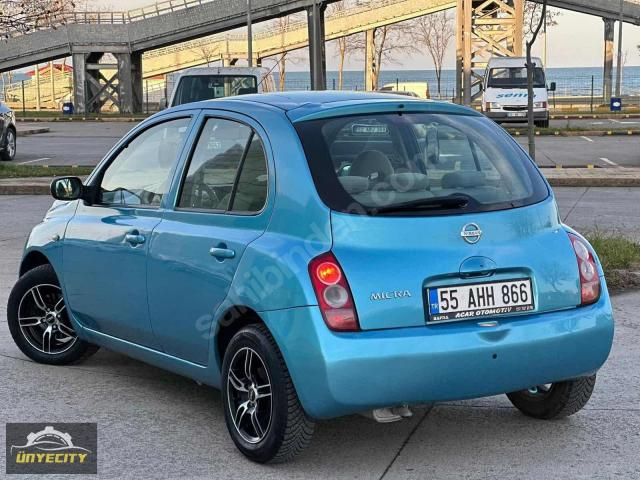plaka: (427, 278, 535, 323)
